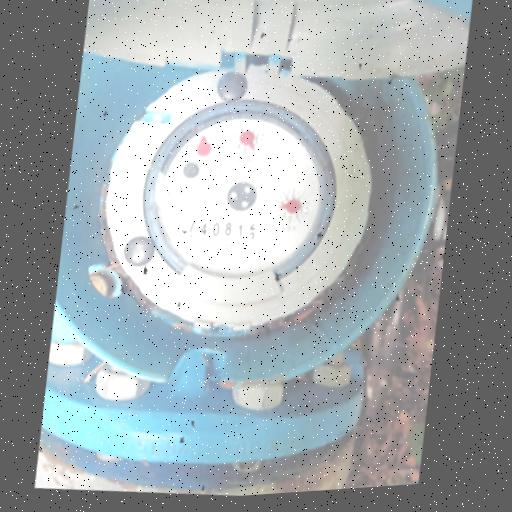0: (211, 221, 223, 240)
1: (235, 222, 249, 241)
2: (247, 223, 260, 241)
4: (199, 219, 212, 239)
7: (186, 219, 200, 238)
8: (223, 221, 236, 240)
border_water_meter_number: (185, 213, 263, 247)
